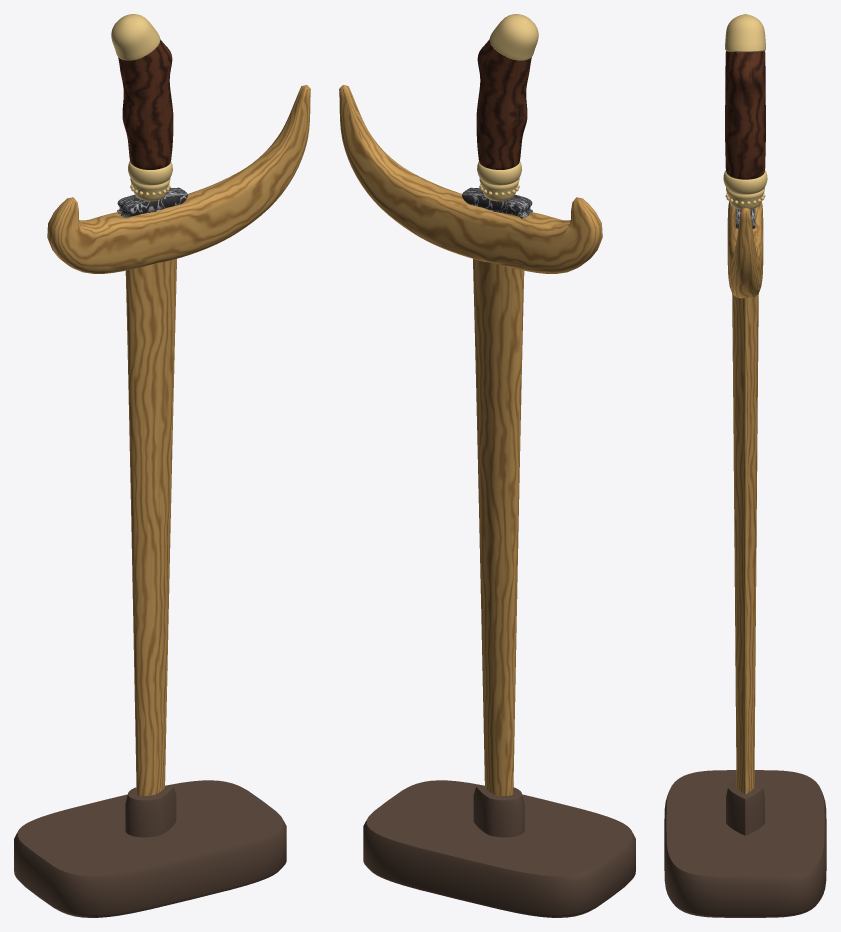
File: keris_jawa.fbx
3 views of the same model, side by side, from view 1: azimuth 30°, elevation 25°; view 2: azimuth 150°, elevation 25°; view 3: azimuth 270°, elevation 25° (orthographic). The views are drawn at different scales.
Visible parts, largest first — view 1: Dudukan, Gandar, Warangka, Hulu, Hulu_Tutup, Ganja, Hulu_Selut; view 2: Dudukan, Gandar, Warangka, Hulu, Hulu_Tutup, Ganja, Hulu_Selut; view 3: Dudukan, Gandar, Hulu, Warangka, Hulu_Tutup, Hulu_Selut, Mendak.
Boxes of the visible parts, left/top/right/bottom form: Dudukan: left=14, top=780, right=286, bottom=917; Gandar: left=125, top=259, right=176, bottom=795; Warangka: left=47, top=85, right=310, bottom=273; Hulu: left=118, top=39, right=173, bottom=169; Hulu_Tutup: left=111, top=14, right=160, bottom=60; Ganja: left=117, top=187, right=187, bottom=218; Hulu_Selut: left=128, top=161, right=172, bottom=185; Dudukan: left=363, top=780, right=635, bottom=917; Gandar: left=473, top=259, right=524, bottom=795; Warangka: left=339, top=85, right=602, bottom=273; Hulu: left=476, top=39, right=531, bottom=169; Hulu_Tutup: left=489, top=14, right=538, bottom=60; Ganja: left=462, top=187, right=532, bottom=218; Hulu_Selut: left=477, top=161, right=521, bottom=185; Dudukan: left=664, top=770, right=826, bottom=917; Gandar: left=732, top=293, right=758, bottom=794; Hulu: left=725, top=51, right=765, bottom=179; Warangka: left=727, top=201, right=763, bottom=298; Hulu_Tutup: left=725, top=14, right=765, bottom=52; Hulu_Selut: left=723, top=170, right=767, bottom=194; Mendak: left=725, top=187, right=765, bottom=209.
Size of the model in its own units: 0.1908 by 0.5707 by 0.1.
